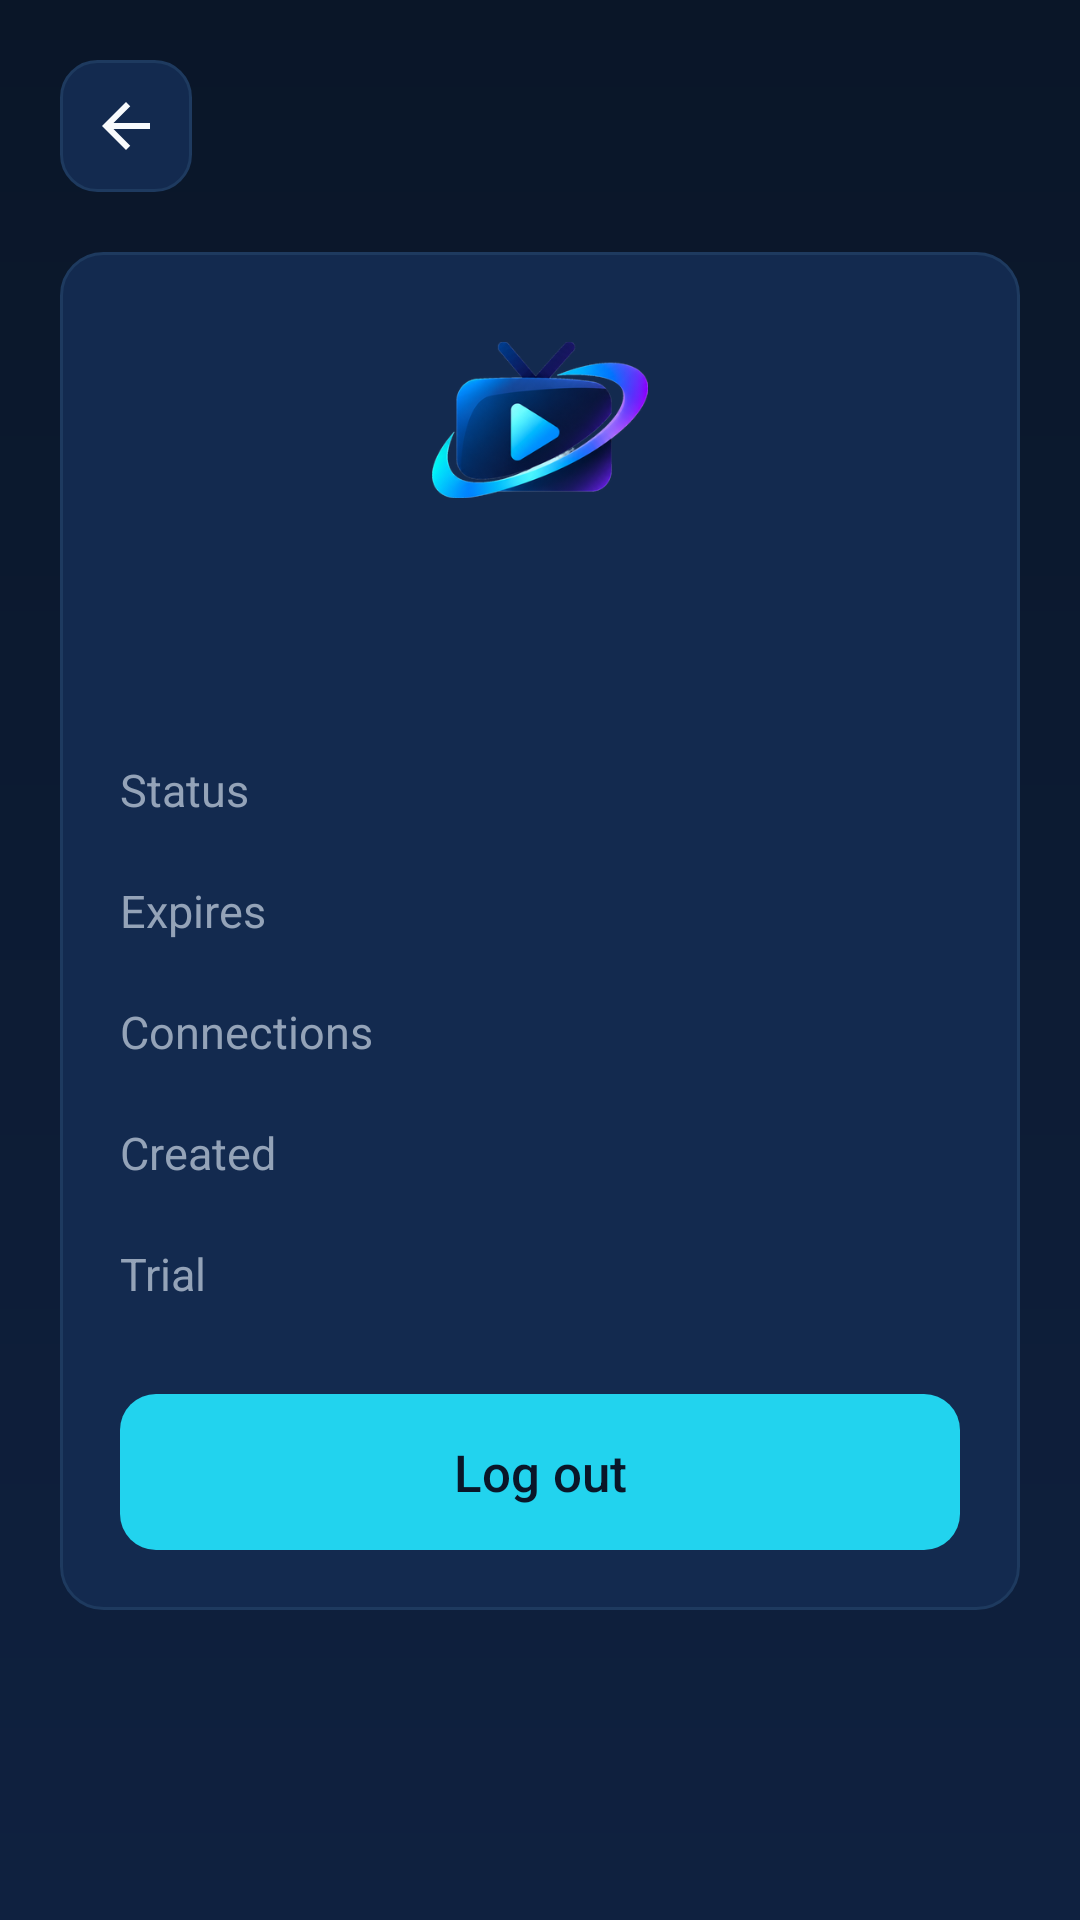

Named icons in this screenshot (1080 × 1920) and their bounding boxes, (x1, y1, x2, y2):
Back: (60, 60, 192, 192)
